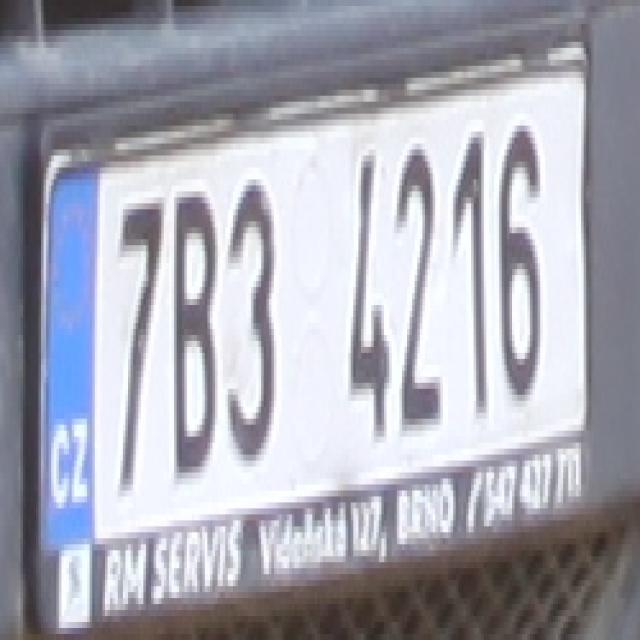1: (453, 125, 494, 412)
2: (394, 138, 446, 436)
3: (228, 179, 279, 466)
4: (343, 156, 392, 448)
6: (497, 120, 545, 394)
7: (115, 192, 161, 502)
B: (169, 186, 223, 484)
